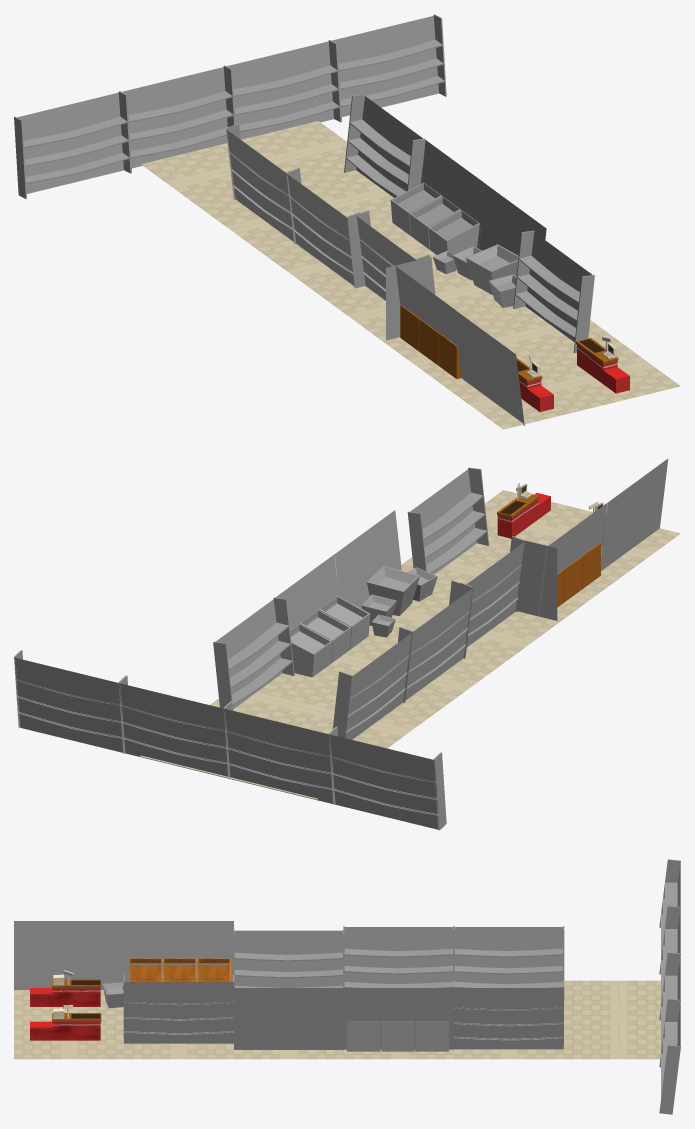
Rendered from environment.fbx.
The picture shows the model from 3 angles, top to bottom: view 1: azimuth 30°, elevation 25°; view 2: azimuth 150°, elevation 25°; view 3: azimuth 270°, elevation 25°; orthographic projection. The views are drawn at different scales.
Parts seen in each view (by area): view 1: floor6, floor2, wall3_ncl1_7, wall3_ncl1_4, wall3_ncl1_5, wall3_ncl1_6, floor5, floor, wall_ncl1_1, floor3, wall3_ncl1_2, wall3_ncl1_3 (+42 smaller); view 2: wall3_ncl1_7, wall3_ncl1_6, wall3_ncl1_5, wall3_ncl1_4, floor5, floor3, wall_ncl1_1, floor2, floor4, wall3_ncl1_2, wall3_ncl1_3, wall4 (+28 smaller); view 3: floor6, wall3_ncl1_8, wall_ncl1_1, wall3, wall4, wall3_ncl1_1, wall3_ncl1_2, wall3_ncl1_3, wall, floor2, wall_ncl1_2, floor (+21 smaller).
Part boxes in pixels (x1,y1,x2,y2): floor6: (141,121,347,207); floor2: (443,342,680,429); wall3_ncl1_7: (17,92,123,193); wall3_ncl1_4: (122,67,227,168); wall3_ncl1_5: (227,41,333,139); wall3_ncl1_6: (332,16,438,116); floor5: (200,170,393,251); floor: (382,306,619,384); wall_ncl1_1: (455,310,524,425); floor3: (322,268,513,340); wall3_ncl1_2: (287,174,354,286); wall3_ncl1_3: (226,129,293,241); wall3_ncl1_7: (329,734,439,829); wall3_ncl1_6: (14,657,123,752); wall3_ncl1_5: (119,683,228,778); wall3_ncl1_4: (224,709,333,803); floor5: (210,673,437,748); floor3: (368,591,559,666); wall_ncl1_1: (601,458,668,570); floor2: (485,490,680,577); floor4: (294,635,498,710); wall3_ncl1_2: (405,588,472,700); wall3_ncl1_3: (345,633,411,739); wall4: (334,510,401,608); floor6: (563,980,660,1059); wall3_ncl1_8: (453,988,563,1049); wall_ncl1_1: (14,921,123,989); wall3: (124,982,233,1043); wall4: (234,988,343,1049); wall3_ncl1_1: (234,930,342,987); wall3_ncl1_2: (344,927,452,984); wall3_ncl1_3: (454,927,562,984); wall: (124,921,233,982); floor2: (14,990,123,1059); wall_ncl1_2: (344,988,453,1049); floor: (124,1043,233,1059).
Bounding box in the file's own units: 40.07 × 6.96 × 60.66.
